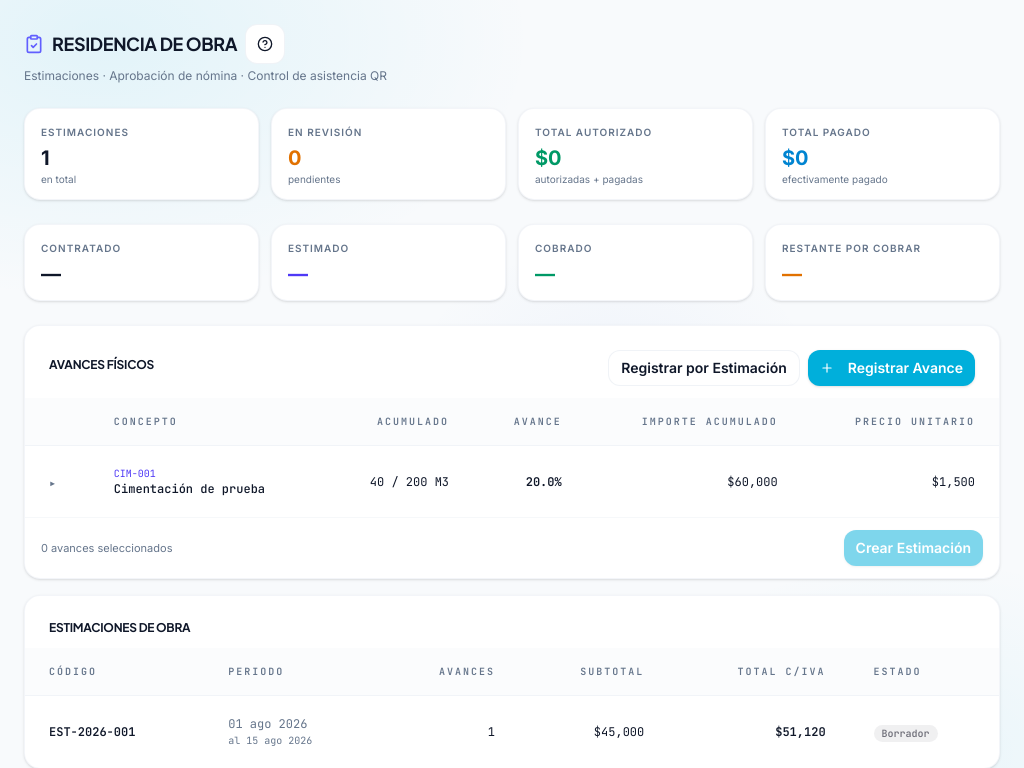
Test case: ResidenciaView — Crear estimación desde avances validados (5.11-5.13) › agrupar avances validados envía avance_ids y agrega la estimación en BORRADOR
Check: the text "EST-2026-001" is shown, box [25, 696, 204, 767]
# Los avances se agrupan por concepto: el detalle (con checkboxes) se expande.
What coordinates should you click on to do the following:
click the button named "Ver detalle Cimentación de prueba"
I would click on:
 (53, 482)
Its box is [49, 474, 56, 490].
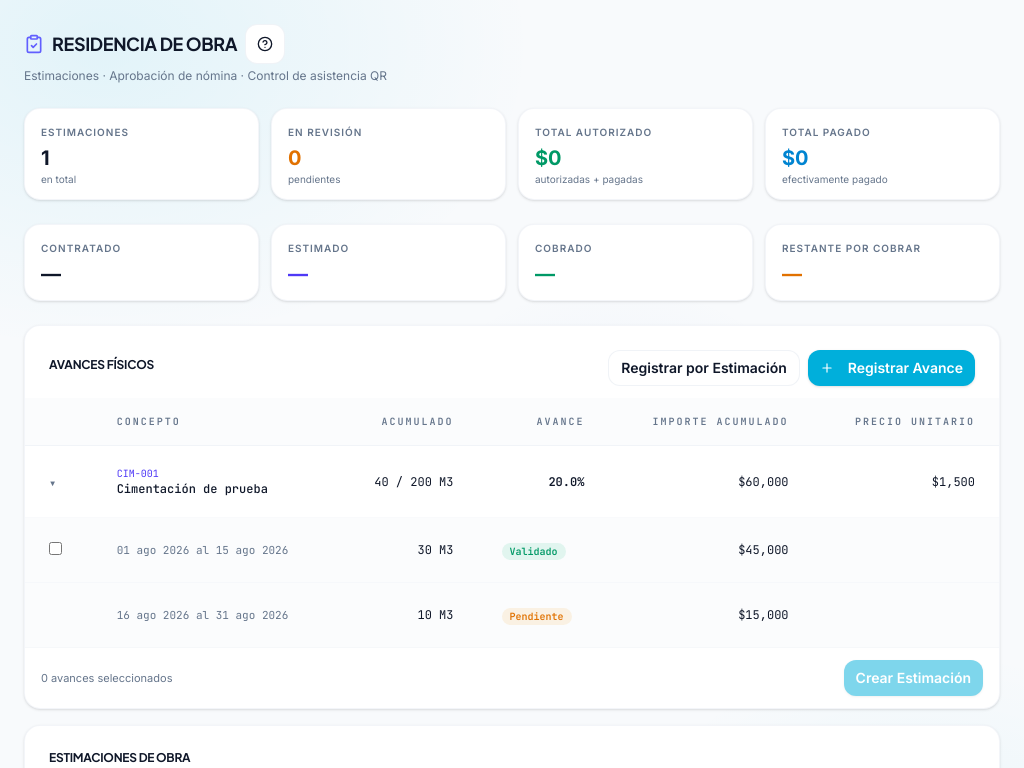
What coordinates should you click on to do the following:
click the checkbox named "CIM-001"
I would click on:
 (56, 548)
Its box is [49, 542, 62, 555].
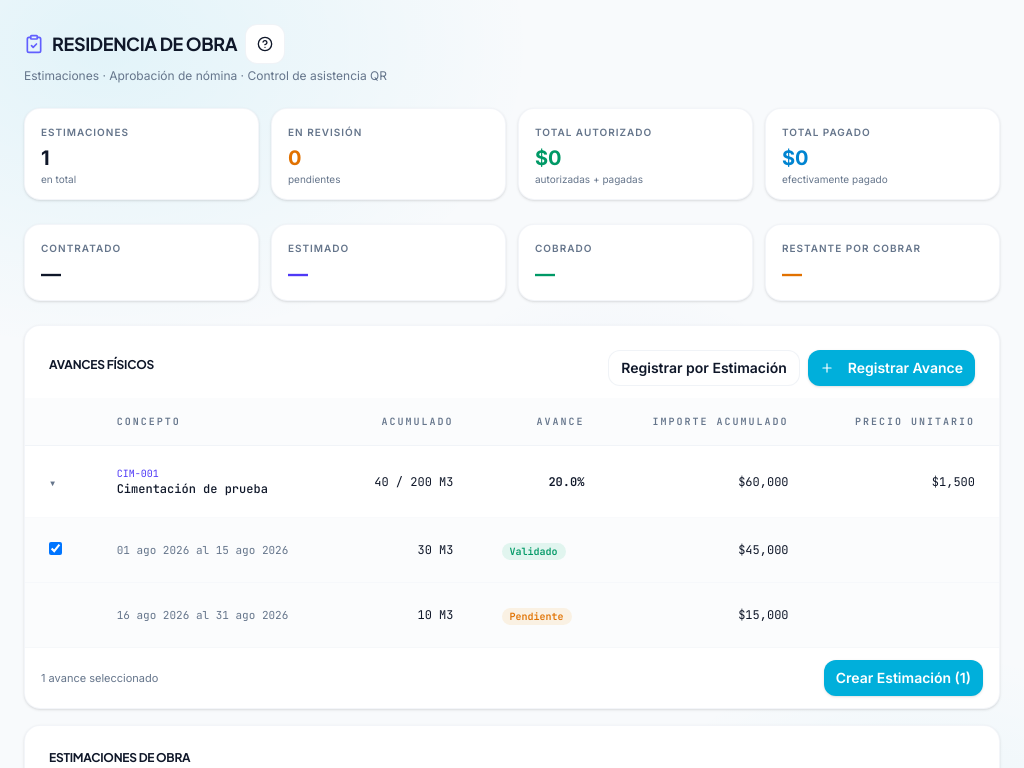
What coordinates should you click on to do the following:
click the button "Crear Estimación (1)"
I would click on:
 (903, 678)
Its box is [824, 660, 983, 696].
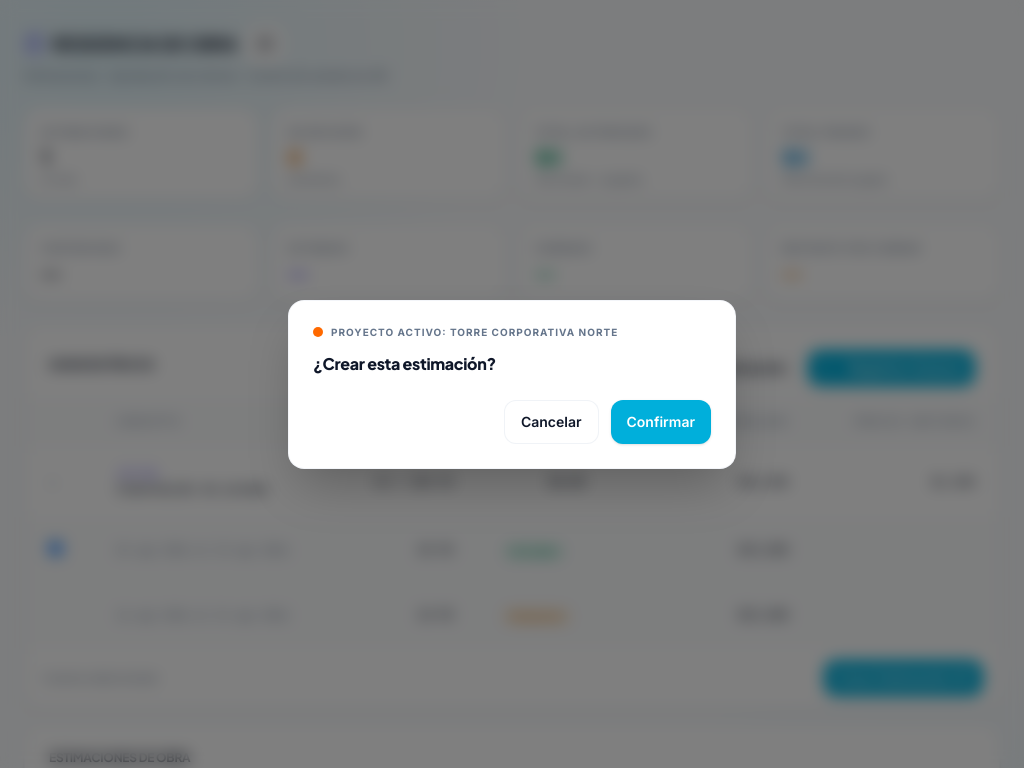
What coordinates should you click on to do the following:
click the button "Confirmar"
I would click on:
 (661, 422)
Its box is [610, 400, 711, 444].
(page scrolled)
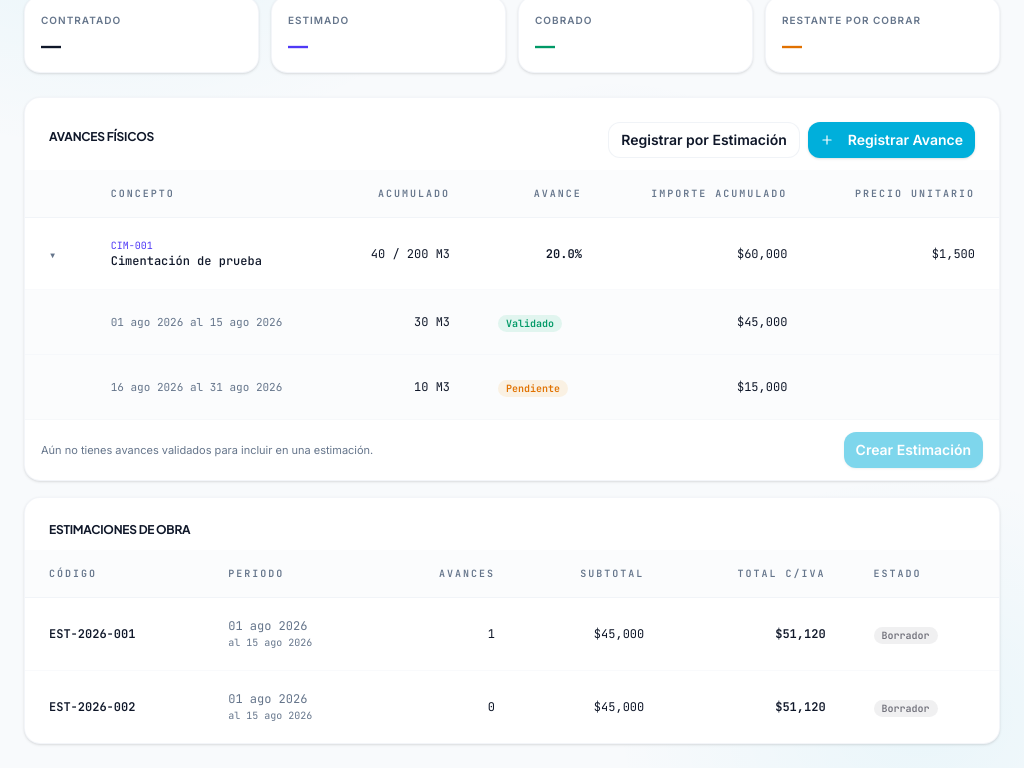
Check: the text "EST-2026-002" is shown, box [25, 670, 204, 743]
